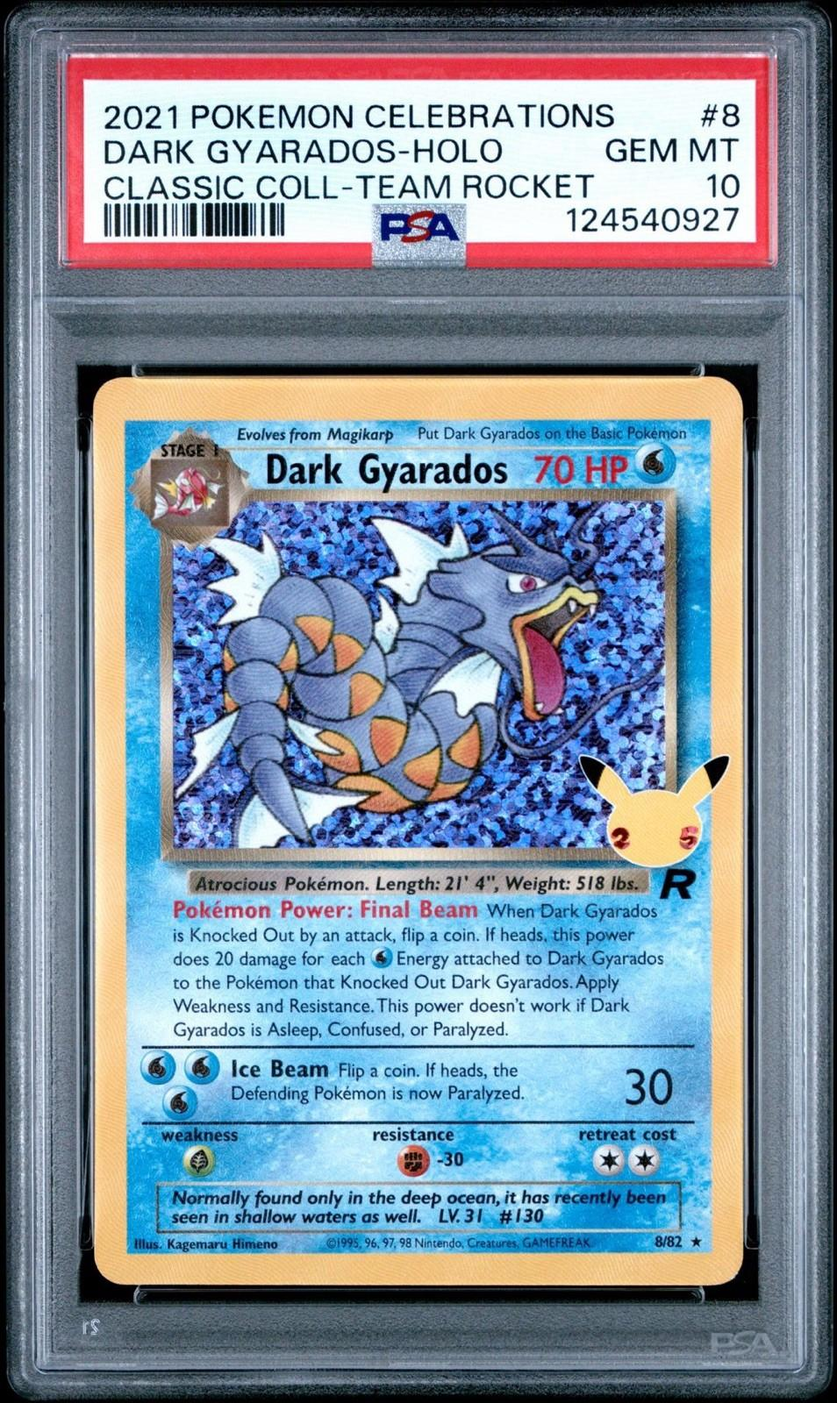card-2UtV: (92, 375, 744, 1286)
